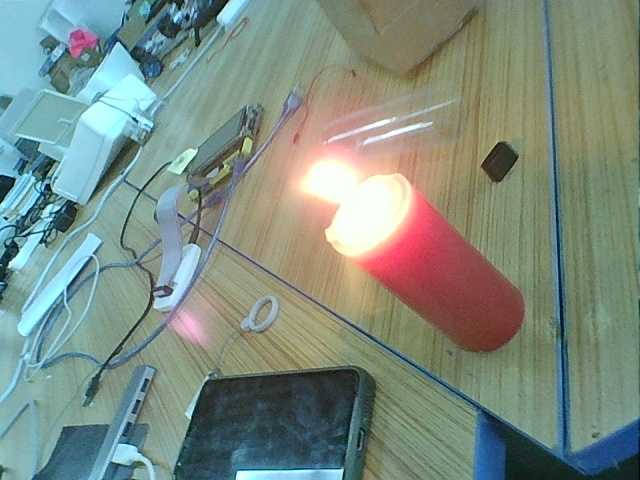candle: (357, 184, 531, 355)
fire: (293, 154, 396, 256)
